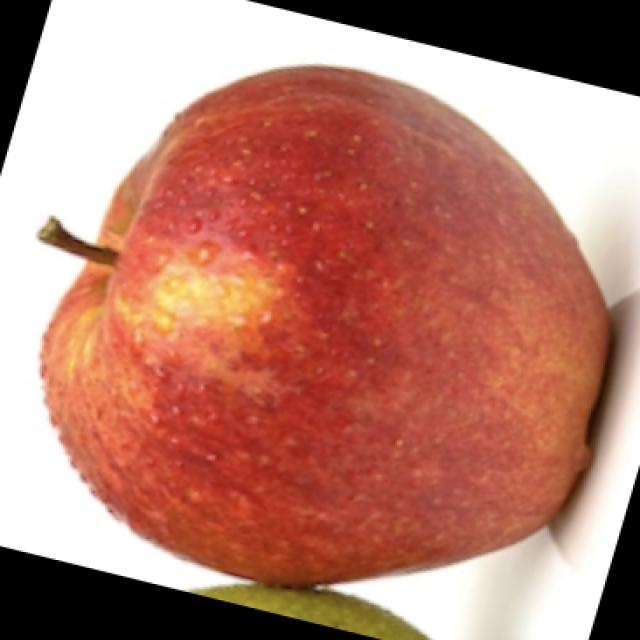Fresh Apple: (39, 80, 624, 593)
